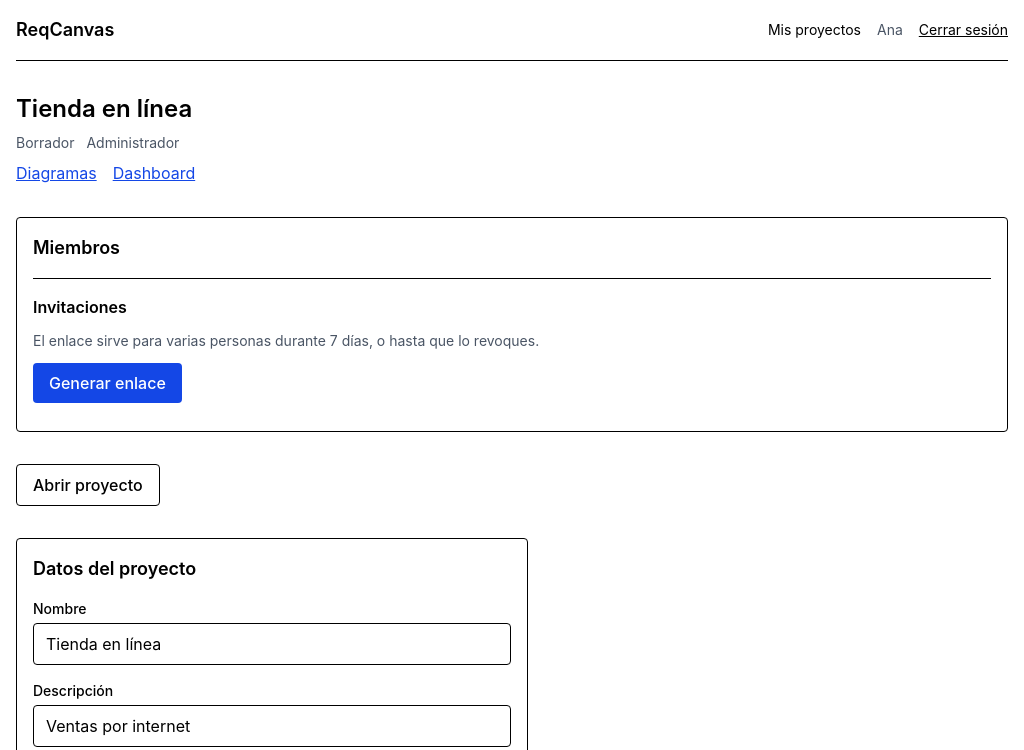
Test: página del proyecto (Administrador) › muestra el error de una transición rechazada
Click the button "Abrir proyecto": (88, 485) [16,464,160,506]
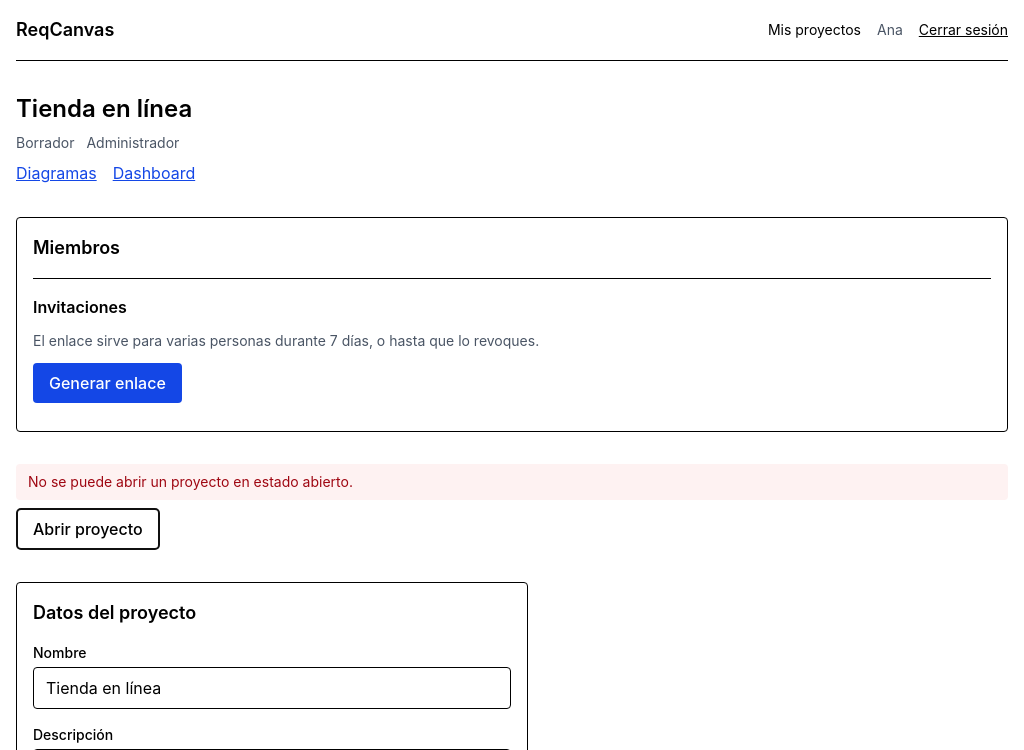
Check: the message shows "No se puede abrir", box [28,473,353,490]
